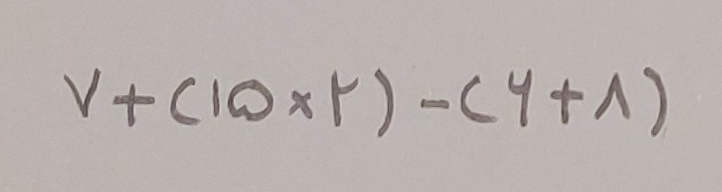character: (227, 79, 272, 122), (461, 75, 500, 123), (113, 83, 155, 126), (63, 68, 99, 117), (594, 73, 631, 118), (331, 69, 358, 127), (643, 67, 666, 134), (550, 78, 583, 123), (170, 76, 200, 125), (508, 68, 531, 125), (375, 69, 393, 135), (288, 90, 312, 118), (212, 79, 225, 121), (421, 99, 449, 109)
